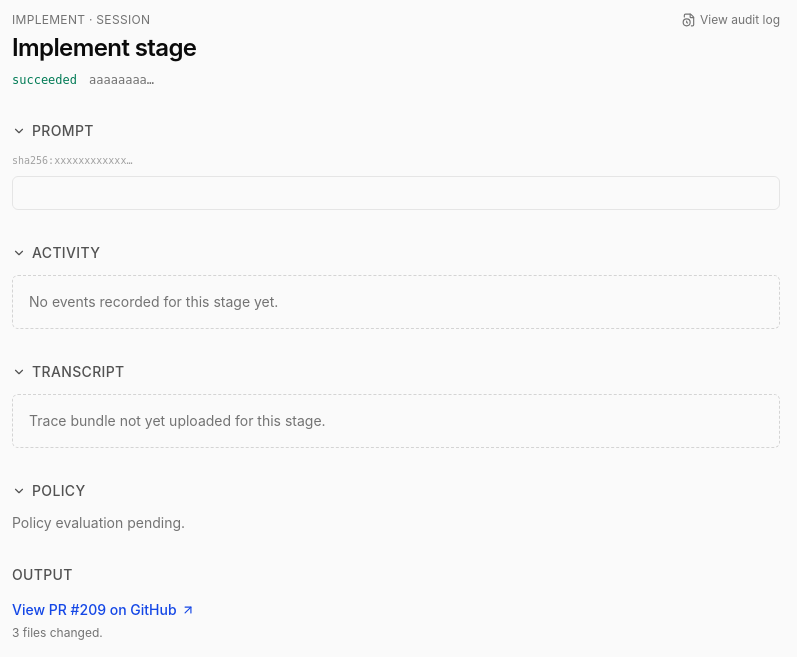
Scenario: <ImplementSessionDocument> › collapses the transcript section when its header button is clicked
Expected: the text "Trace bundle not yet uploaded for this stage." is shown, [12, 394, 780, 448]
Click the button "Transcript" at (68, 372), box [12, 362, 124, 382]
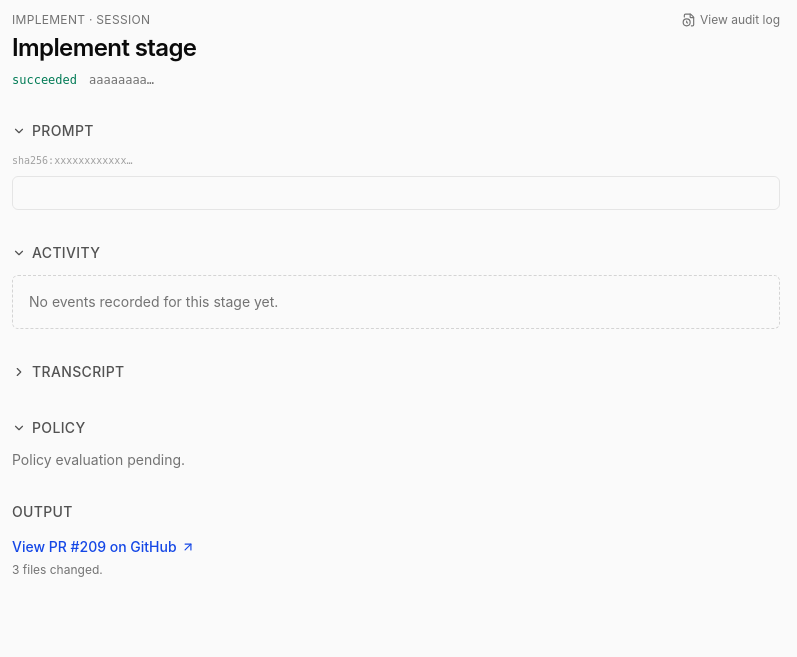
Expected: the button "Transcript" is collapsed, [12, 362, 124, 382]
Expected: the text "Trace bundle not yet uploaded" is gone
